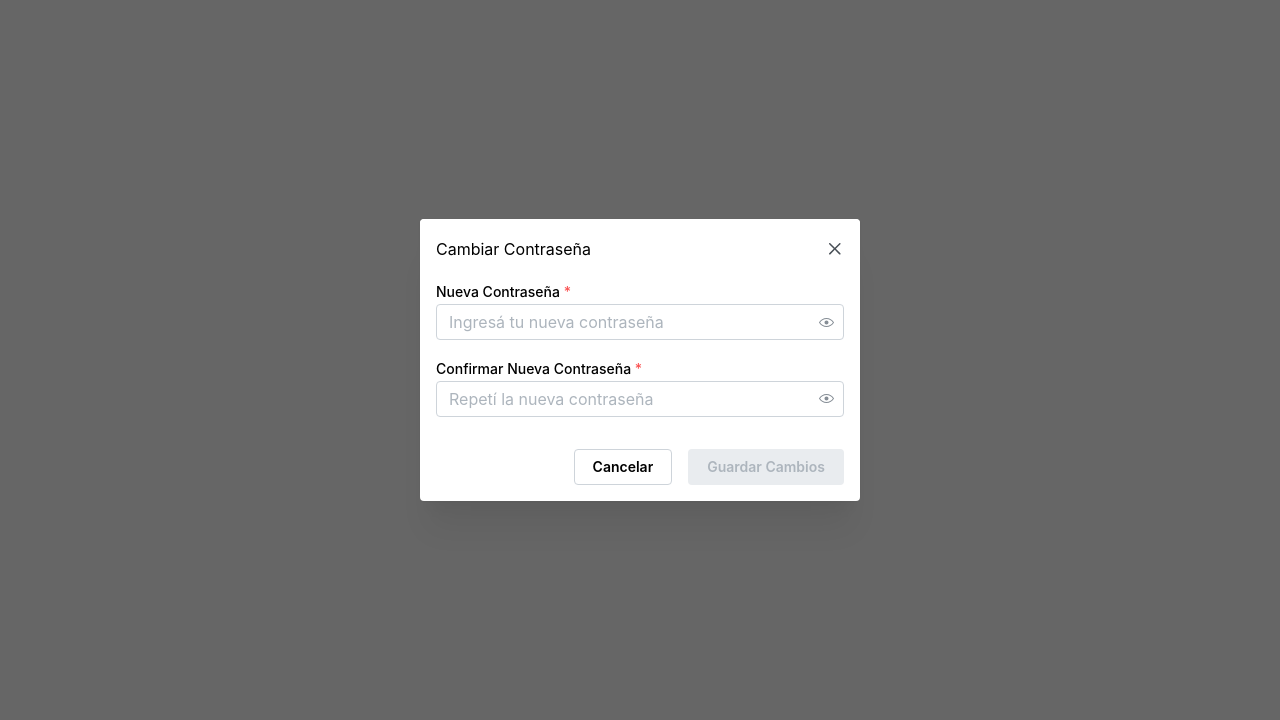
Test: ModalCambiarContrasena › debe habilitar el botón de guardar solo cuando ambos campos están llenos
Type "password123" into the password field with placeholder "Ingresá tu nueva contraseña". click: (640, 322)
box: left=437, top=305, right=843, bottom=339
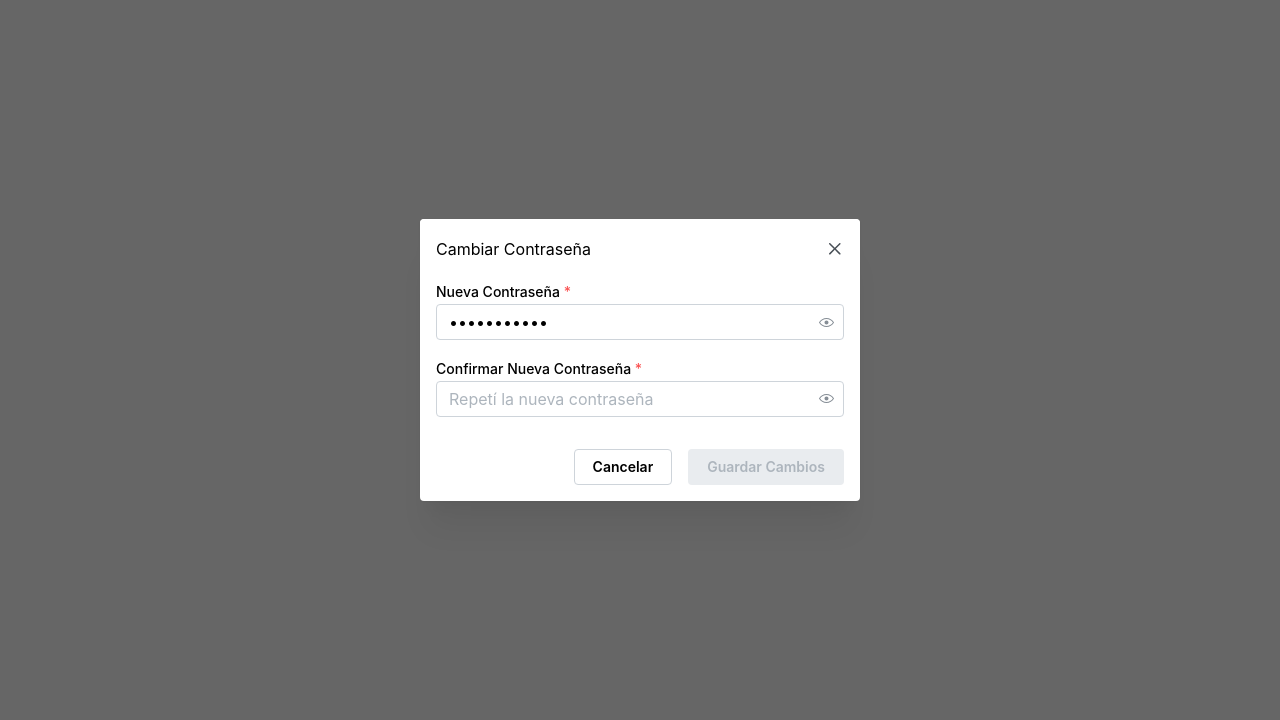
Type "password123" into the password field with placeholder "Repetí la nueva contraseña". click: (640, 399)
box: left=437, top=382, right=843, bottom=416
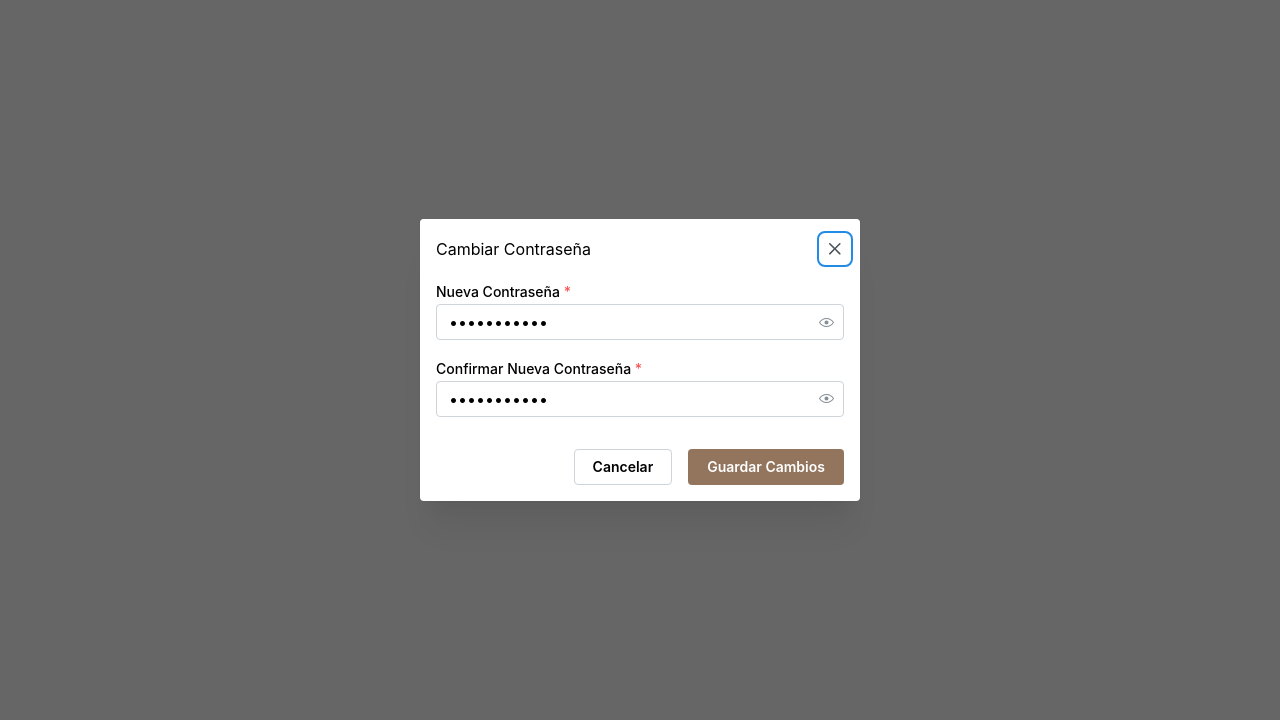
Now the button "Guardar Cambios" is enabled, box left=688, top=449, right=844, bottom=485
